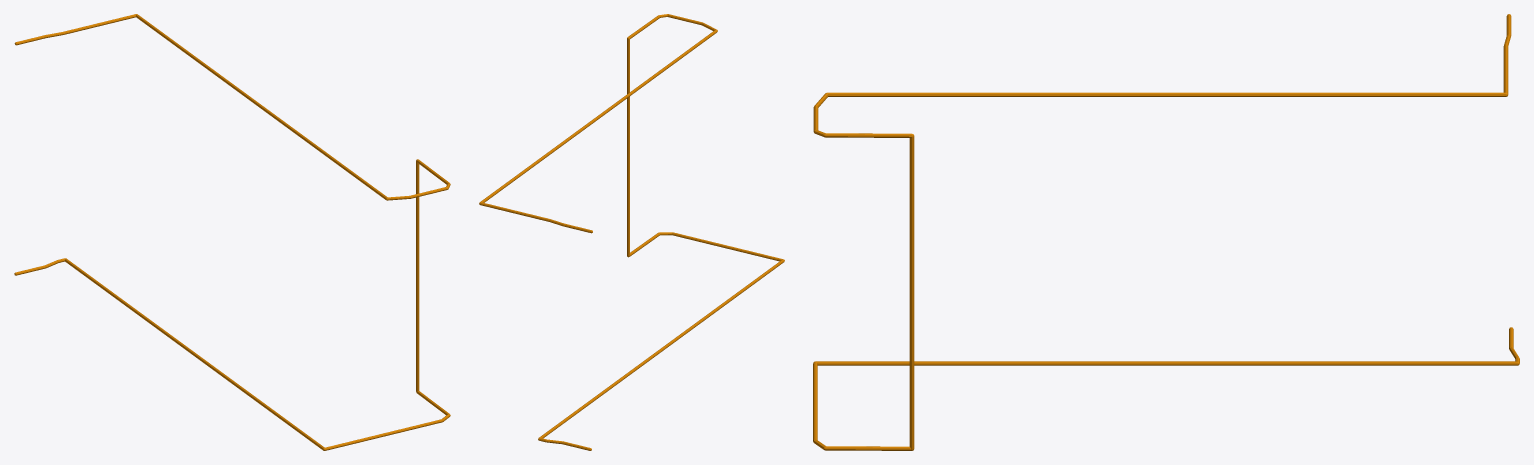
The picture shows the model from 3 angles, left to right: view 1: azimuth 30°, elevation 25°; view 2: azimuth 150°, elevation 25°; view 3: azimuth 270°, elevation 25°; orthographic projection. The views are drawn at different scales.
Bounding box in the file's own units: 1250 × 1520 × 3070.
